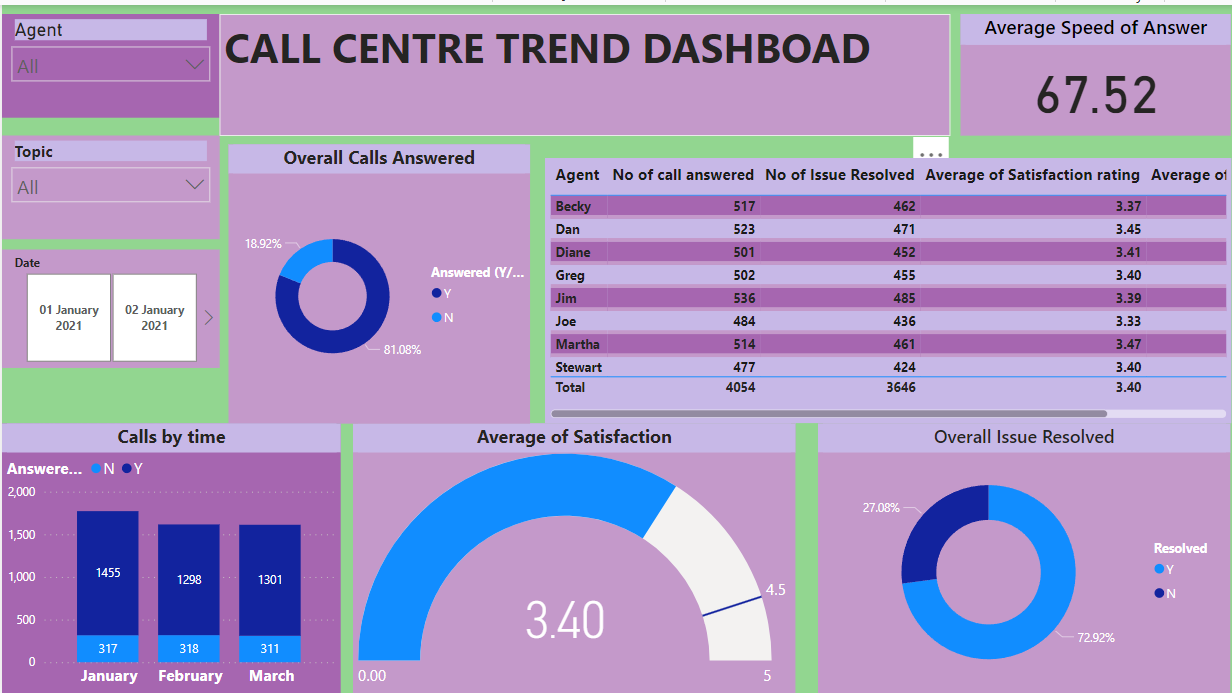

The page's visual inventory and layout, read from the dashboard file:
{"tool":"powerbi","page":{"name":"Page 1","canvas":[1280,720],"ordinal":0},"visuals":[{"type":"slicer","fields":{"Values":["Sheet1.Agent"]},"box":[0,9.4,226.5,107.8],"z":0},{"type":"slicer","fields":{"Values":["Sheet1.Topic"]},"box":[0,135.9,226.5,107.8],"z":1},{"type":"slicer","fields":{"Values":["Sheet1.Date"]},"box":[0,254.6,226.5,123.4],"z":2},{"type":"gauge","title":"Average of Satisfaction ","fields":{"Y":["Sheet1.Satisfaction rating"],"MaxValue":["Sum(Sheet1.Satisfaction rating)1"],"TargetValue":["Sheet1.Satisfiction Targer"]},"box":[365.5,435.7,460.7,284.3],"z":3},{"type":"donutChart","title":"Overall Calls  Answered ","fields":{"Category":["Sheet1.Answered (Y/N)"],"Y":["Sheet1.Answered (Y/N)"]},"box":[235.8,145.2,313.9,290.5],"z":4},{"type":"donutChart","title":"Overall Issue  Resolved","fields":{"Category":["Sheet1.Resolved"],"Y":["Sheet1.Answered (Y/N)"]},"box":[849.6,435.7,429.5,284.3],"z":5},{"type":"card","title":"Average Speed of Answer","fields":{"Values":["Sheet1.Speed of answer in seconds"]},"box":[997.8,9.4,281.6,126.6],"z":6},{"type":"textbox","box":[226.8,9.4,759.7,126.6],"z":7},{"type":"tableEx","fields":{"Values":["Sheet1.Agent","Sheet1.Answered Yes","Sheet1.Resolved Yes","Sheet1.Satisfaction rating","Sheet1.Speed of answer in seconds"]},"box":[565,158.7,714.3,275.9],"z":8},{"type":"columnChart","title":"Calls by time","fields":{"Category":["Sheet1.Date.Variation.Date Hierarchy.Month"],"Y":["Sheet1.Answered (Y/N)"],"Series":["Sheet1.Answered (Y/N)"]},"box":[0,435.7,353,284.3],"z":10}]}

Visuals, with their boxes in screenshot pixels (x1, y1, x2, y2), scaled from the page's 1280x720 canvas onto the 1232x693 screenshot:
slicer - Sheet1.Agent: bbox=(0, 9, 218, 113)
slicer - Sheet1.Topic: bbox=(0, 131, 218, 235)
slicer - Sheet1.Date: bbox=(0, 245, 218, 364)
"Average of Satisfaction " gauge: bbox=(352, 419, 795, 692)
"Overall Calls  Answered " donutChart: bbox=(227, 140, 529, 419)
"Overall Issue  Resolved" donutChart: bbox=(818, 419, 1231, 692)
"Average Speed of Answer" card: bbox=(960, 9, 1231, 131)
textbox: bbox=(218, 9, 950, 131)
tableEx - Sheet1.Agent x Sheet1.Answered Yes: bbox=(544, 153, 1231, 418)
"Calls by time" columnChart: bbox=(0, 419, 340, 692)
